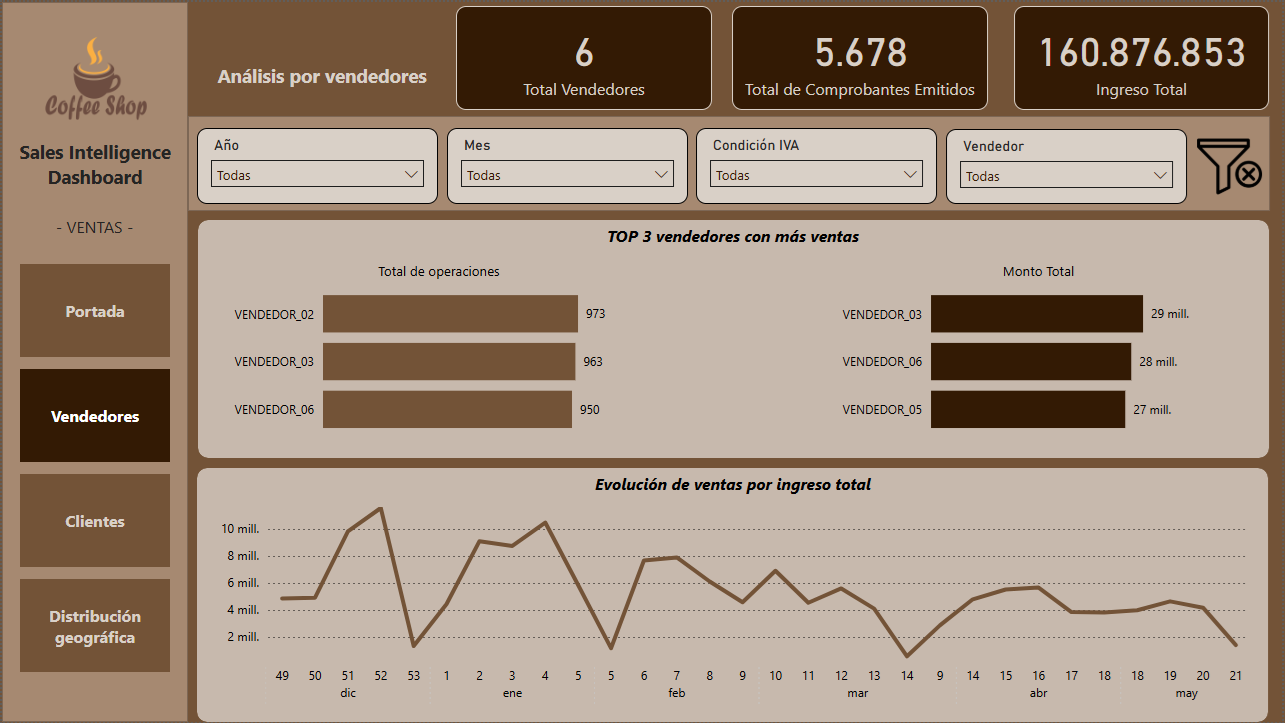

Layout of this report page (visuals, bound fields, positions):
{"tool":"powerbi","page":{"name":"Vendedores","canvas":[1280,720],"ordinal":1},"visuals":[{"type":"shape","box":[0,0,185.9,720],"z":0},{"type":"shape","box":[186,114,1082,95],"z":1000},{"type":"textbox","box":[0,132.4,185.9,69.8],"z":2000},{"type":"textbox","box":[33,209,119,37],"z":3000},{"type":"pageNavigator","box":[17,261,152,410],"z":4000},{"type":"textbox","box":[185.8,56.4,268.4,37],"z":5000},{"type":"slicer","fields":{"Values":["Calendario.Año"]},"box":[195,126,241,76],"z":6000},{"type":"slicer","fields":{"Values":["Calendario.Mes (Abreviado)"]},"box":[445,126,241,76],"z":7000},{"type":"slicer","fields":{"Values":["Condicion Fiscal.CONDICION_IVA"]},"box":[694,126,241,76],"z":8000},{"type":"card","fields":{"Values":["#Medidas.Ingresos_TOT"]},"box":[1011.6,3.9,255.8,104.1],"z":9000},{"type":"card","fields":{"Values":["#Medidas.TOT_COMPROB_EMITIDOS"]},"box":[730.5,3.9,255.8,104.1],"z":10000},{"type":"card","fields":{"Values":["#Medidas.TOT_VENDEDORES"]},"box":[454.2,3.9,255.8,104.1],"z":11000},{"type":"shape","box":[195.5,217.9,1071.9,238.3],"z":12000},{"type":"clusteredBarChart","fields":{"Y":["#Medidas.TOT_COMPROB_EMITIDOS"],"Category":["Vendedores.VENDEDOR"]},"box":[221.8,260.7,387.1,191.6],"z":13000},{"type":"textbox","box":[195.5,217.9,1070.9,37],"z":14000},{"type":"textbox","box":[270.4,254.8,333.6,37],"z":15000},{"type":"clusteredBarChart","fields":{"Category":["Vendedores.VENDEDOR"],"Y":["#Medidas.Ingresos_TOT"]},"box":[829.7,260.7,362.8,191.6],"z":16000},{"type":"textbox","box":[869.5,254.8,333.6,37],"z":17000},{"type":"shape","box":[194.5,465.9,1071.9,253.9],"z":18000},{"type":"lineChart","fields":{"Y":["#Medidas.Ingresos_TOT"],"Category":["Calendario.Mes (Abreviado)","Calendario.Semana"]},"box":[214,492.2,1037.8,220.8],"z":19000},{"type":"slicer","fields":{"Values":["Vendedores.VENDEDOR"]},"box":[944,127,241,75],"z":20000},{"type":"textbox","box":[194.5,465.9,1072.8,37],"z":21000},{"type":"image","box":[1190,127,75,75],"z":22000},{"type":"image","box":[17.2,3.6,152.3,146],"z":23000}]}

Visuals, with their boxes in screenshot pixels (x1, y1, x2, y2), scaled from the page's 1280x720 canvas onto the 1285x723 screenshot:
shape: (left=0, top=0, right=187, bottom=722)
shape: (left=187, top=114, right=1273, bottom=210)
textbox: (left=0, top=133, right=187, bottom=203)
textbox: (left=33, top=210, right=153, bottom=247)
pageNavigator: (left=17, top=262, right=170, bottom=674)
textbox: (left=187, top=57, right=456, bottom=94)
slicer - Calendario.Año: (left=196, top=127, right=438, bottom=203)
slicer - Calendario.Mes (Abreviado): (left=447, top=127, right=689, bottom=203)
slicer - Condicion Fiscal.CONDICION_IVA: (left=697, top=127, right=939, bottom=203)
card - #Medidas.Ingresos_TOT: (left=1016, top=4, right=1272, bottom=108)
card - #Medidas.TOT_COMPROB_EMITIDOS: (left=733, top=4, right=990, bottom=108)
card - #Medidas.TOT_VENDEDORES: (left=456, top=4, right=713, bottom=108)
shape: (left=196, top=219, right=1272, bottom=458)
clusteredBarChart - #Medidas.TOT_COMPROB_EMITIDOS x Vendedores.VENDEDOR: (left=223, top=262, right=611, bottom=454)
textbox: (left=196, top=219, right=1271, bottom=256)
textbox: (left=271, top=256, right=606, bottom=293)
clusteredBarChart - Vendedores.VENDEDOR x #Medidas.Ingresos_TOT: (left=833, top=262, right=1197, bottom=454)
textbox: (left=873, top=256, right=1208, bottom=293)
shape: (left=195, top=468, right=1271, bottom=722)
lineChart - #Medidas.Ingresos_TOT x Calendario.Mes (Abreviado): (left=215, top=494, right=1257, bottom=716)
slicer - Vendedores.VENDEDOR: (left=948, top=128, right=1190, bottom=203)
textbox: (left=195, top=468, right=1272, bottom=505)
image: (left=1195, top=128, right=1270, bottom=203)
image: (left=17, top=4, right=170, bottom=150)
